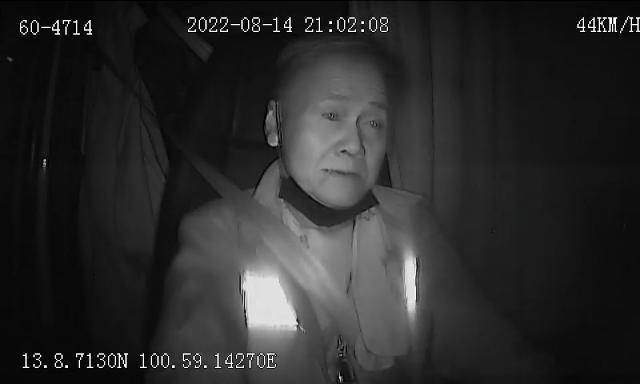SafeDriving: (357, 107, 391, 138), (314, 99, 349, 129)
Seatbelt: (195, 158, 362, 352)
